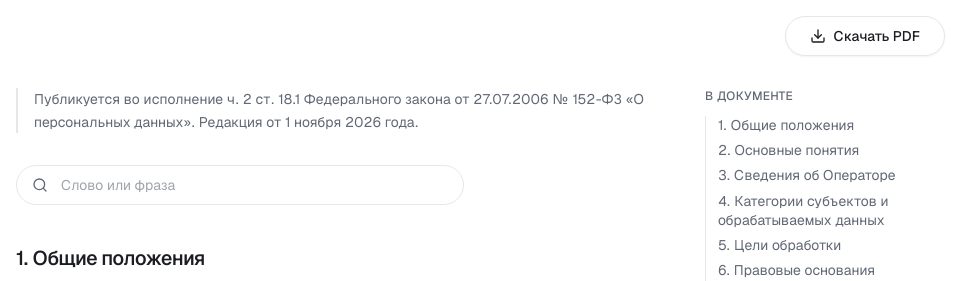
Test case: LegalScreen — поиск по документу › одна буква — это «доберите знак», а не «ничего нет»
Type "с" into the search field at [240, 186], box [16, 166, 464, 206]
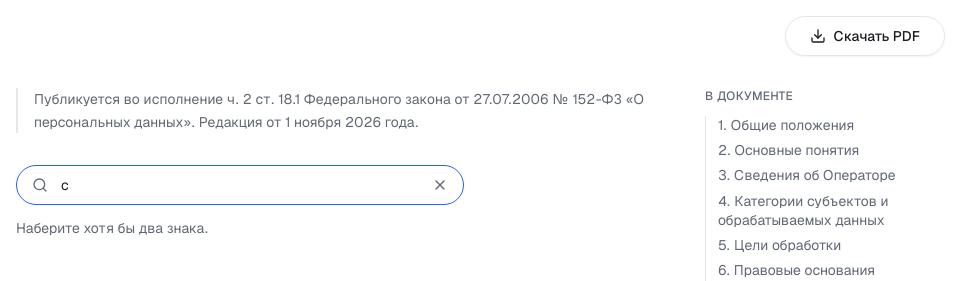
Check: the text "Наберите хотя бы два знака." is shown, box [16, 220, 208, 238]
